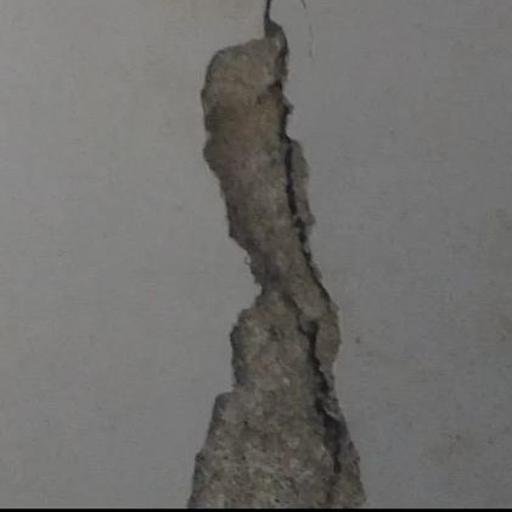spalling: (181, 5, 377, 512)
